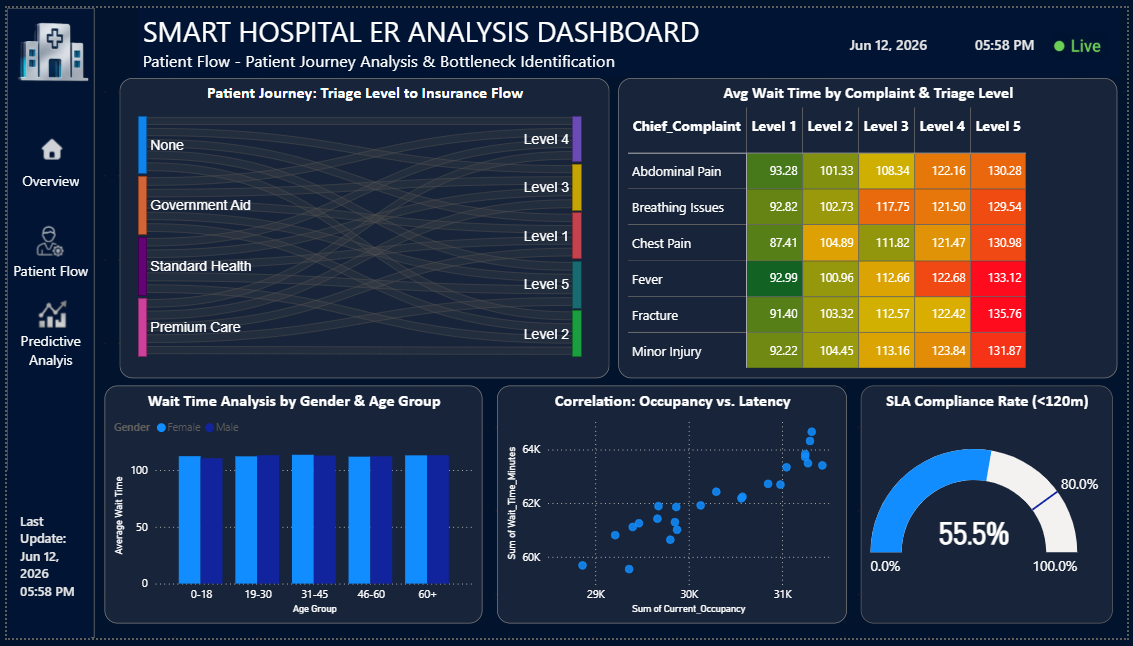

This screenshot's page, from the dashboard's own definition file:
{"tool":"powerbi","page":{"name":"Patient Flow","canvas":[1280,720],"ordinal":1},"visuals":[{"type":"textbox","box":[150,0,1121.4,78.6],"z":0},{"type":"shape","box":[0,0,100,720],"z":1000},{"type":"actionButton","box":[0,320,100,100],"z":2000},{"type":"sankey02300D1BE6F5427989F3DE31CCA9E0F32020","title":"Patient Journey: Triage Level to Insurance Flow","fields":{"Weight":["CountNonNull(Smart_Hospital_ER_Analytics_for_PBI.Patient_ID)"],"Source":["Smart_Hospital_ER_Analytics_for_PBI.Insurance_Provider"],"Destination":["Smart_Hospital_ER_Analytics_for_PBI.Triage Display"]},"box":[128,80,560,343],"z":3000},{"type":"actionButton","box":[0,224,100,100],"z":4000},{"type":"actionButton","box":[0,121.7,100,100],"z":5000},{"type":"image","box":[0,0,100,100],"z":6000},{"type":"cardVisual","fields":{"Data":["Smart_Hospital_ER_Analytics_for_PBI.Last Update","Smart_Hospital_ER_Analytics_for_PBI.Last Update yr"]},"box":[936,0,276,80],"z":7000},{"type":"shape","box":[0,512,96,48],"z":8000},{"type":"cardVisual","fields":{"Data":["Smart_Hospital_ER_Analytics_for_PBI.Last Refresh Display"]},"box":[0,528,96,192],"z":9000},{"type":"image","box":[1178,28,94,32],"z":10000},{"type":"pivotTable","title":"Avg Wait Time  by Complaint & Triage Level","fields":{"Values":["Avg(Smart_Hospital_ER_Analytics_for_PBI.Wait_Time_Minutes)"],"Rows":["Smart_Hospital_ER_Analytics_for_PBI.Chief_Complaint"],"Columns":["Smart_Hospital_ER_Analytics_for_PBI.Triage Display"]},"box":[698,80,570,343],"z":11000},{"type":"gauge","title":"SLA Compliance Rate (<120m)","fields":{"Y":["Smart_Hospital_ER_Analytics_for_PBI.SLA Compliance %"]},"box":[976,432,288,272],"z":12000},{"type":"clusteredColumnChart","title":"Wait Time Analysis by Gender & Age Group","fields":{"Category":["Smart_Hospital_ER_Analytics_for_PBI.Age Group"],"Y":["Smart_Hospital_ER_Analytics_for_PBI.Average Wait Time"],"Series":["Smart_Hospital_ER_Analytics_for_PBI.Gender"]},"box":[112,432,432,272],"z":13000},{"type":"scatterChart","title":"Correlation: Occupancy vs. Latency","fields":{"X":["Sum(Smart_Hospital_ER_Analytics_for_PBI.Current_Occupancy)"],"Y":["Sum(Smart_Hospital_ER_Analytics_for_PBI.Wait_Time_Minutes)"],"Category":["Smart_Hospital_ER_Analytics_for_PBI.Arrival Hour"]},"box":[560,432,400,272],"z":14000}]}

Visuals, with their boxes in screenshot pixels (x1, y1, x2, y2), scaled from the page's 1280x720 canvas onto the 1133x646 screenshot:
textbox: bbox=(133, 0, 1125, 71)
shape: bbox=(0, 0, 89, 645)
actionButton: bbox=(0, 287, 89, 377)
"Patient Journey: Triage Level to Insurance Flow" sankey02300D1BE6F5427989F3DE31CCA9E0F32020: bbox=(113, 72, 609, 380)
actionButton: bbox=(0, 201, 89, 291)
actionButton: bbox=(0, 109, 89, 199)
image: bbox=(0, 0, 89, 90)
cardVisual - Smart_Hospital_ER_Analytics_for_PBI.Last Update x Smart_Hospital_ER_Analytics_for_PBI.Last Update yr: bbox=(829, 0, 1073, 72)
shape: bbox=(0, 459, 85, 502)
cardVisual - Smart_Hospital_ER_Analytics_for_PBI.Last Refresh Display: bbox=(0, 474, 85, 645)
image: bbox=(1043, 25, 1126, 54)
"Avg Wait Time  by Complaint & Triage Level" pivotTable: bbox=(618, 72, 1122, 380)
"SLA Compliance Rate (<120m)" gauge: bbox=(864, 388, 1119, 632)
"Wait Time Analysis by Gender & Age Group" clusteredColumnChart: bbox=(99, 388, 482, 632)
"Correlation: Occupancy vs. Latency" scatterChart: bbox=(496, 388, 850, 632)
